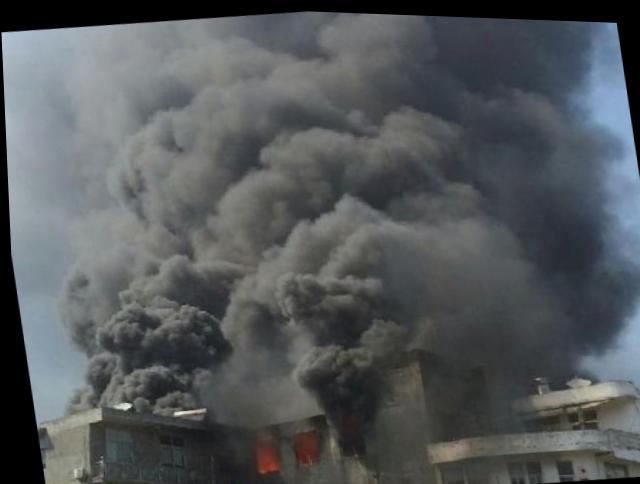fire: (251, 437, 278, 473)
